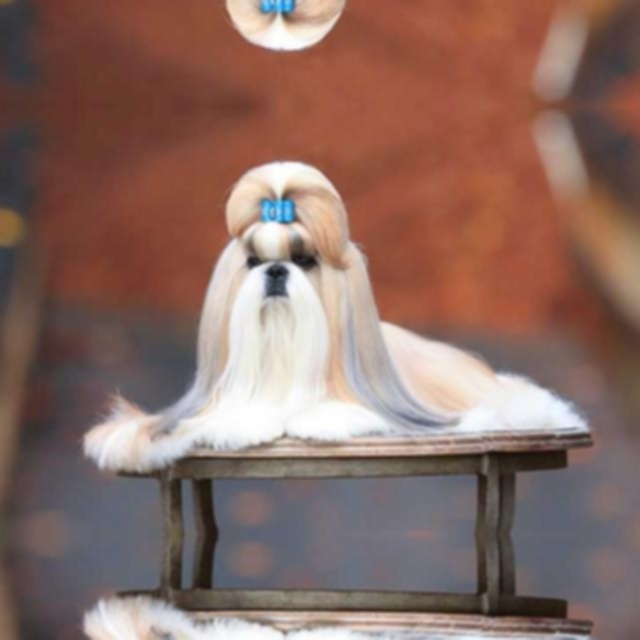dog: (171, 135, 365, 383), (171, 0, 365, 75)
